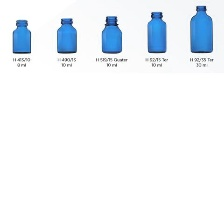bottle: (187, 2, 216, 54), (98, 12, 124, 57), (144, 10, 170, 55), (55, 16, 78, 56), (8, 18, 32, 54)
